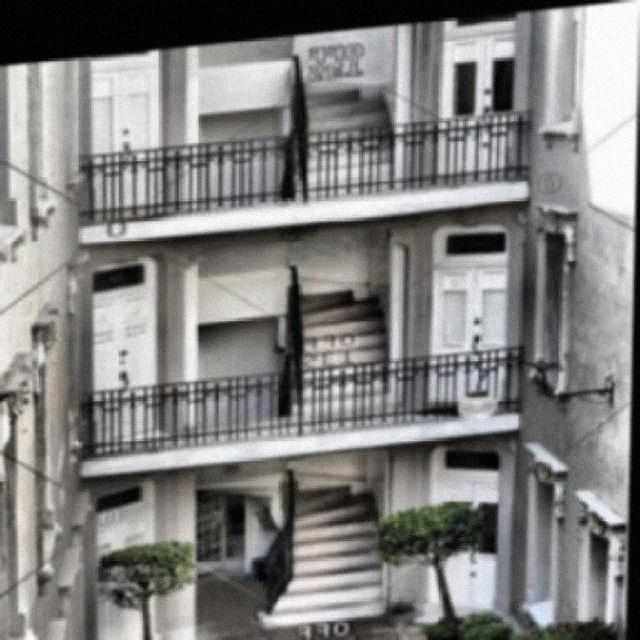stair: (266, 483, 419, 617), (284, 252, 404, 417), (289, 68, 400, 189)
